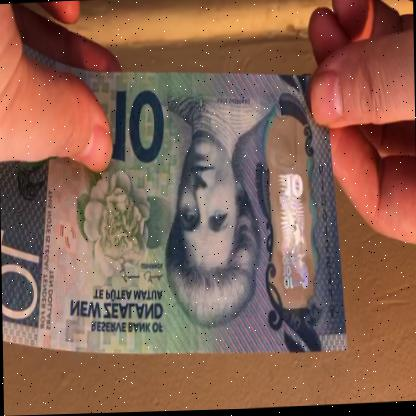10B: (272, 144, 310, 298)
